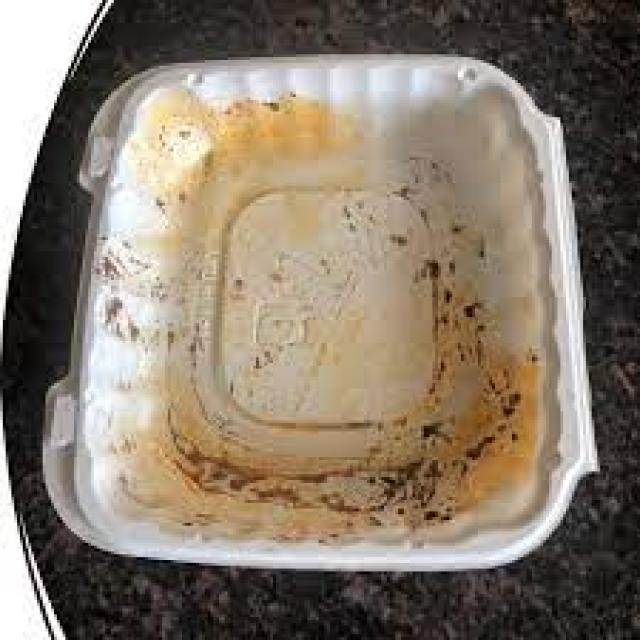styrofoam: (40, 49, 597, 572)
